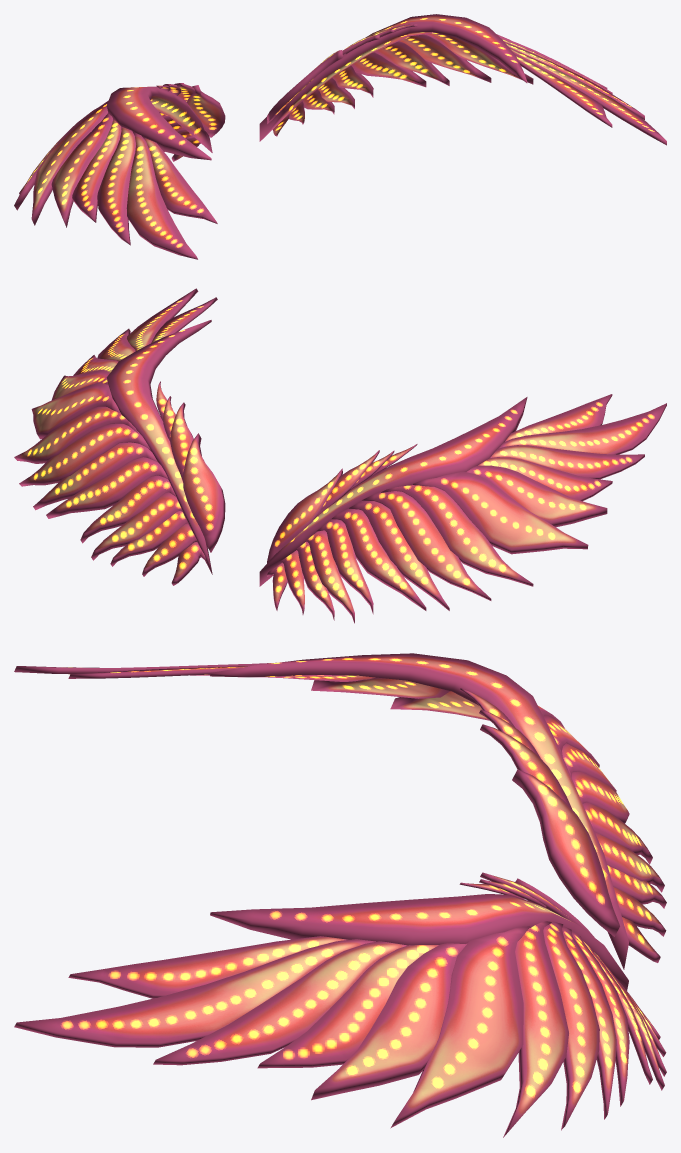
File: dragon's_wings(1).glb
The picture shows the model from 3 angles, top to bottom: view 1: azimuth 30°, elevation 25°; view 2: azimuth 150°, elevation 25°; view 3: azimuth 270°, elevation 25°; orthographic projection. The views are drawn at different scales.
Visible parts, largest first — view 1: Dragon's Wings(1); view 2: Dragon's Wings(1); view 3: Dragon's Wings(1).
Part boxes in pixels (x1,y1,x2,y2): Dragon's Wings(1): [14, 14, 666, 259]; Dragon's Wings(1): [14, 288, 666, 623]; Dragon's Wings(1): [14, 653, 666, 1137].
Size of what is drawn, in the model's own units: 28.27 by 6.84 by 18.5.
Materials: 1 (1 with a texture image).
